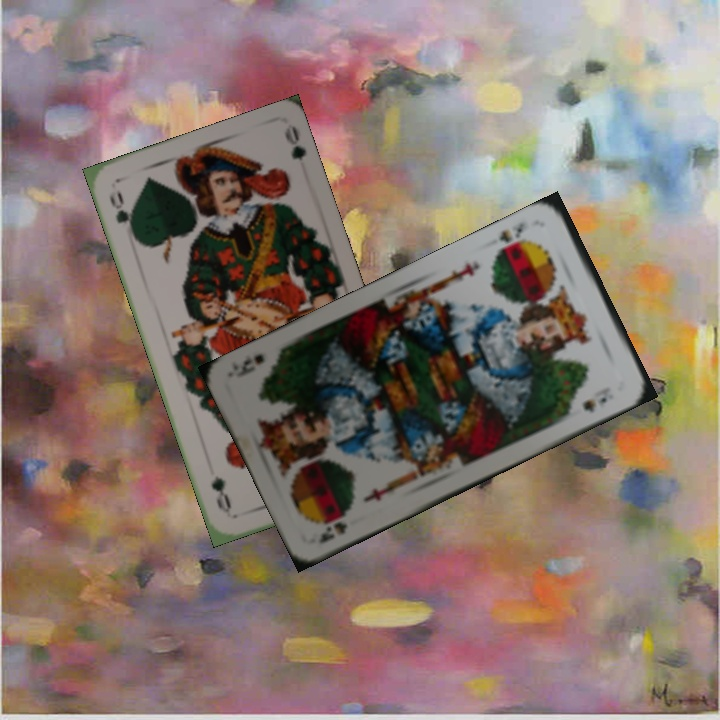GO: (105, 187, 137, 240)
SK: (493, 218, 534, 258), (315, 510, 350, 547)
